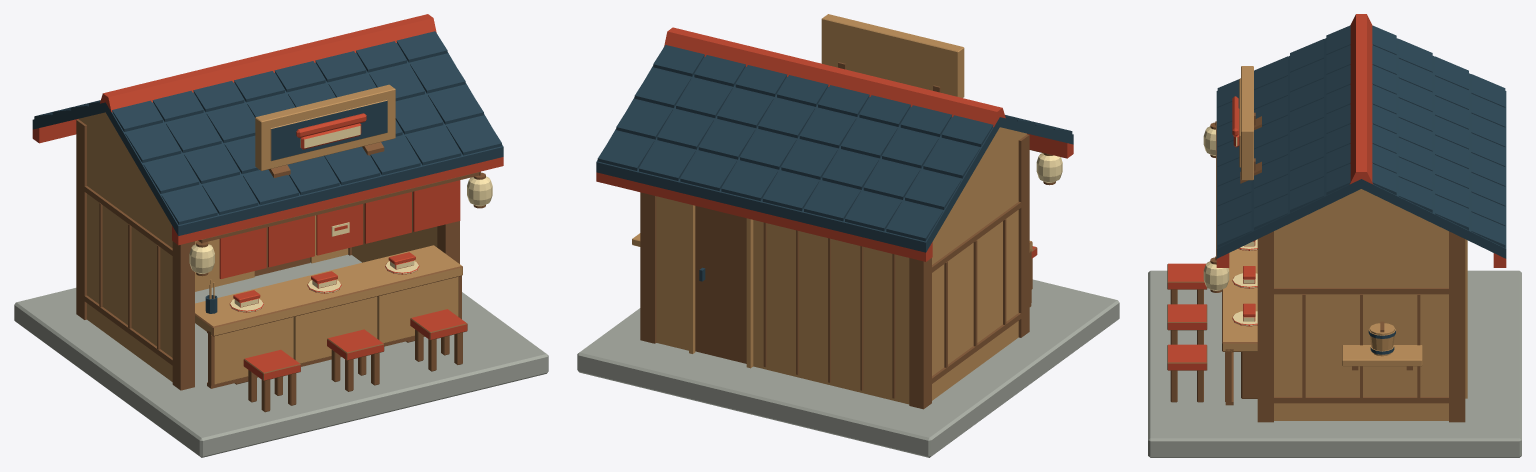
The model's file is craftsman-lv2.glb.
3 renders of one model, left to right at view 1: azimuth 30°, elevation 25°; view 2: azimuth 150°, elevation 25°; view 3: azimuth 270°, elevation 25°, orthographic.
Visible parts, largest first — view 1: Craftsman_L2; view 2: Craftsman_L2; view 3: Craftsman_L2.
Boxes of the visible parts, left/top/right/bottom form: Craftsman_L2: left=14, top=14, right=548, bottom=457; Craftsman_L2: left=577, top=14, right=1119, bottom=457; Craftsman_L2: left=1148, top=14, right=1521, bottom=457.
Bounding box in the file's own units: 4.4 × 3.4 × 4.1.
